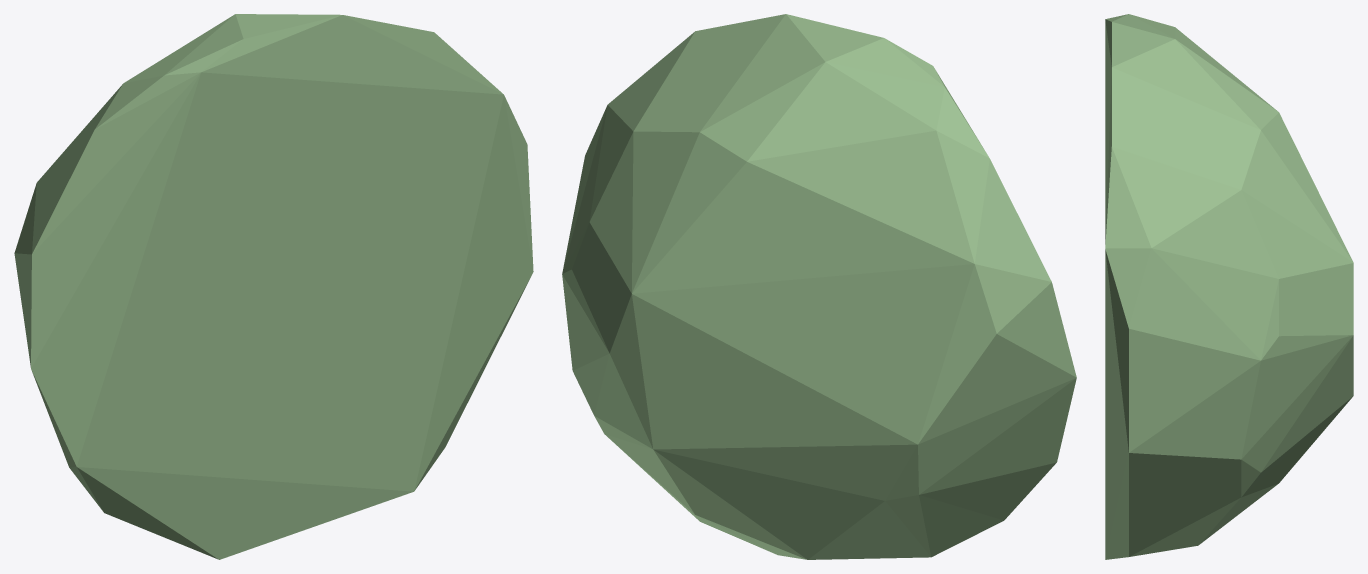
The model's file is kitchenware_bowl_k01.glb.
3 views of the same model, side by side, from view 1: azimuth 30°, elevation 25°; view 2: azimuth 150°, elevation 25°; view 3: azimuth 270°, elevation 25° (orthographic). The views are drawn at different scales.
Parts seen in each view (by area): view 1: geometry_0; view 2: geometry_0; view 3: geometry_0.
Part boxes in pixels (x1,y1,x2,y2): geometry_0: [14, 14, 533, 559]; geometry_0: [562, 14, 1076, 559]; geometry_0: [1105, 14, 1353, 559].
Bounding box in the file's own units: 0.4742 × 0.4649 × 0.216.
